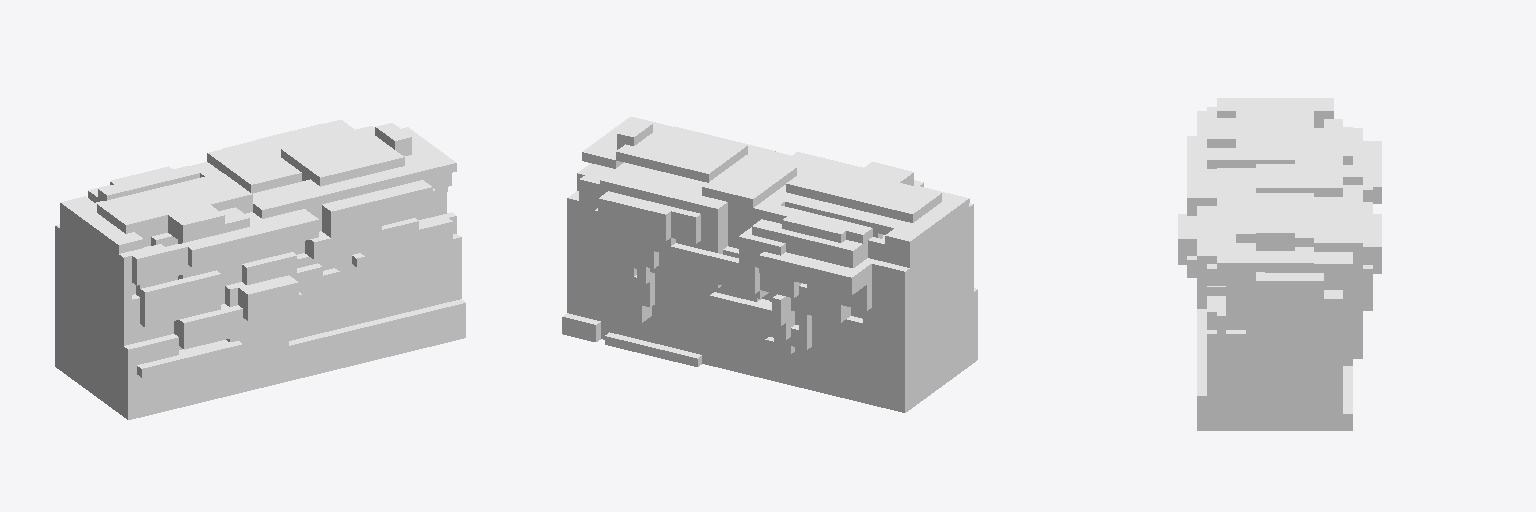
File: snow3.obj
3 renders of one model, left to right at view 1: azimuth 30°, elevation 25°; view 2: azimuth 150°, elevation 25°; view 3: azimuth 270°, elevation 25°, orthographic.
Visible parts, largest first — view 1: object 1; view 2: object 1; view 3: object 1.
Part boxes in pixels (x1,y1,x2,y2): object 1: (55, 120, 465, 419); object 1: (562, 117, 977, 412); object 1: (1178, 98, 1381, 430).
Size of the model in its own units: 4 by 2.1 by 2.1.